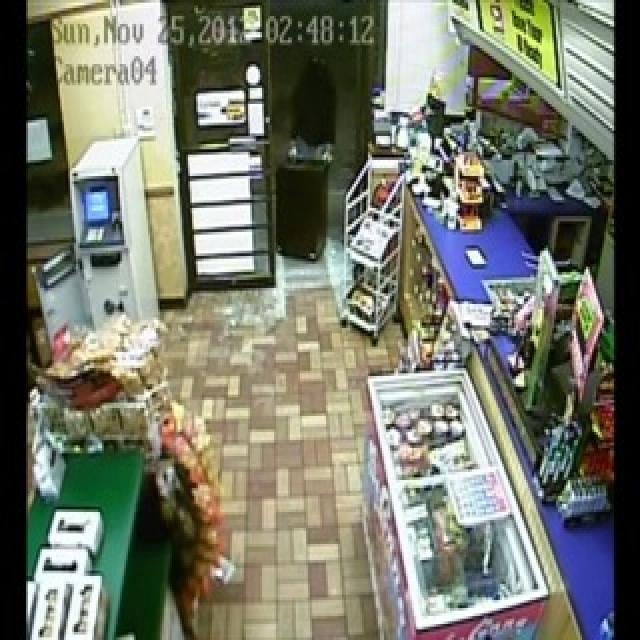thief: (286, 47, 341, 160)
